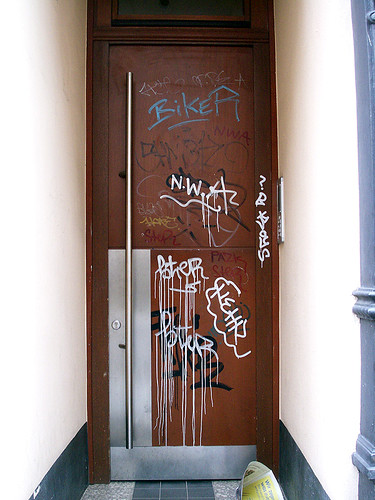door: (98, 32, 269, 482)
graffiti: (122, 70, 269, 459)
